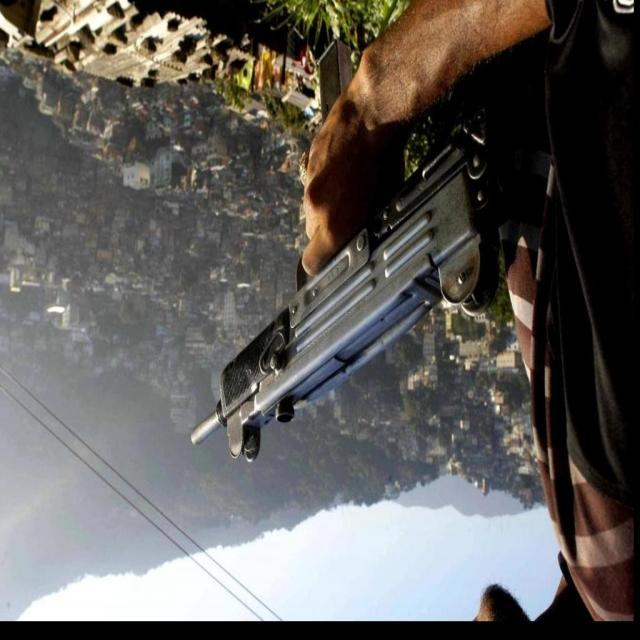weapon: (189, 112, 500, 464)
